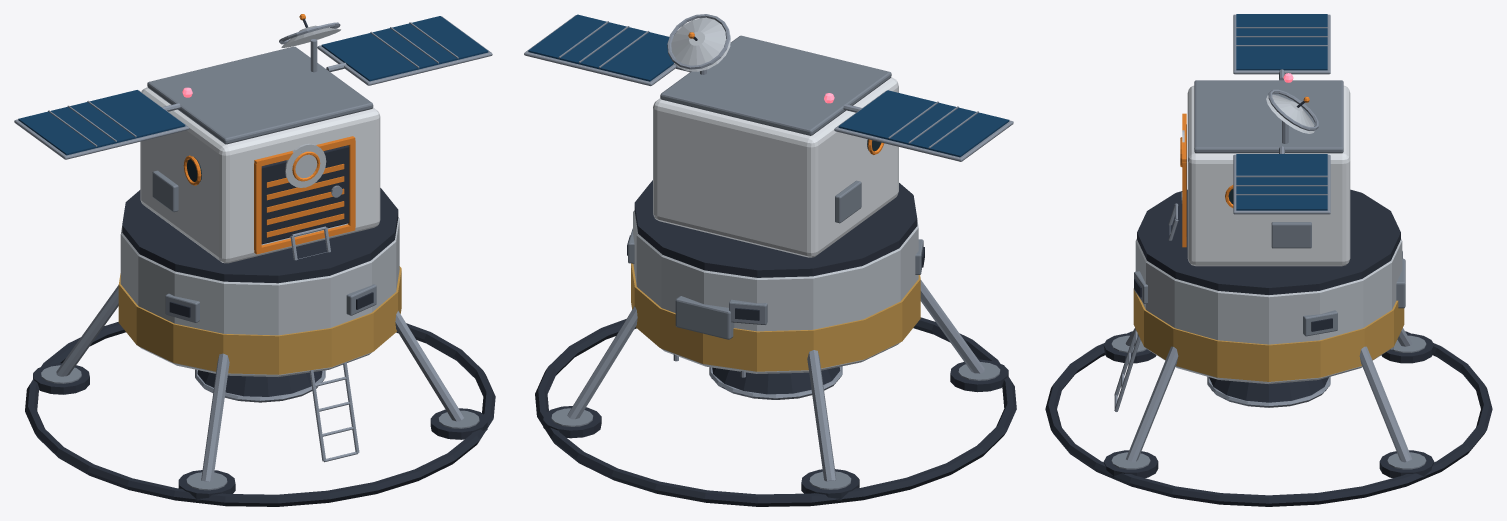
File: lander.glb
3 renders of one model, left to right at view 1: azimuth 30°, elevation 25°; view 2: azimuth 150°, elevation 25°; view 3: azimuth 270°, elevation 25°, orthographic. The views are drawn at different scales.
Parts seen in each view (by area): view 1: LanderBody, LanderDishMesh; view 2: LanderBody, LanderDishMesh; view 3: LanderBody, LanderDishMesh.
Part boxes in pixels (x1,y1,x2,y2): LanderBody: (14, 16, 495, 506); LanderDishMesh: (279, 14, 340, 72); LanderBody: (524, 14, 1016, 506); LanderDishMesh: (667, 14, 730, 74); LanderBody: (1045, 14, 1492, 506); LanderDishMesh: (1266, 89, 1318, 143).
Size of the model in its own units: 7.2 by 5.91 by 6.88.
